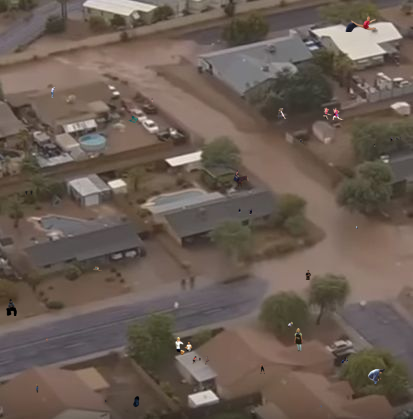Human: (345, 16, 376, 32), (231, 169, 249, 190), (132, 396, 157, 410), (175, 337, 193, 355), (323, 107, 344, 120), (368, 369, 386, 384), (294, 328, 303, 352), (6, 299, 17, 316), (191, 356, 210, 365), (238, 208, 252, 216), (278, 108, 286, 119), (303, 270, 311, 280), (128, 116, 138, 123), (390, 136, 401, 142), (36, 384, 41, 395), (260, 363, 265, 374), (25, 190, 33, 196), (93, 266, 102, 271), (51, 87, 55, 98), (341, 357, 348, 363), (288, 321, 293, 329), (151, 96, 154, 103), (374, 144, 379, 147), (299, 139, 303, 142), (45, 338, 48, 342), (320, 405, 322, 409), (356, 226, 358, 230), (105, 400, 107, 403)
